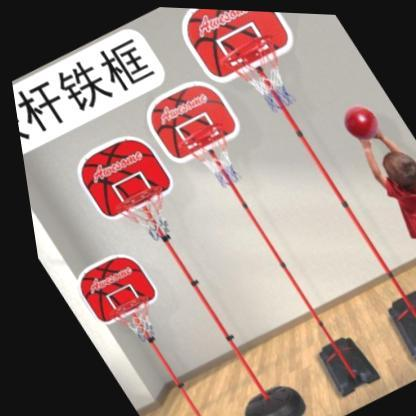basketball: (331, 96, 384, 144)
rim: (214, 27, 309, 119), (169, 117, 251, 196), (101, 181, 179, 252), (95, 291, 161, 350)
